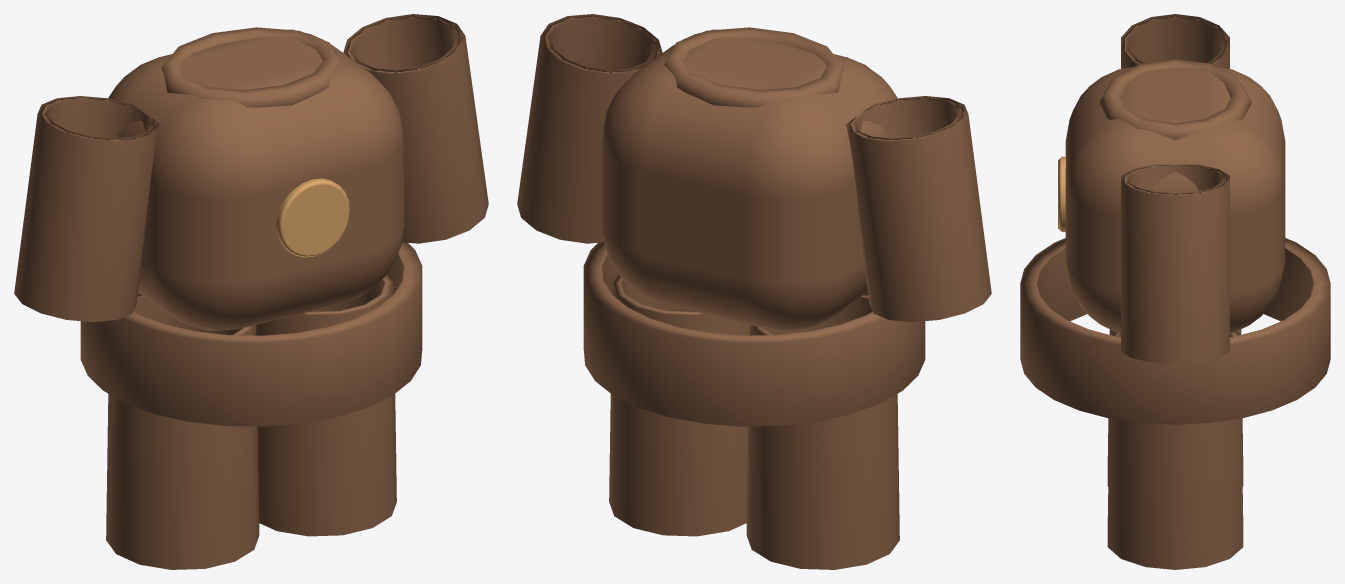
File: bear_costume.glb
3 views of the same model, side by side, from view 1: azimuth 30°, elevation 25°; view 2: azimuth 150°, elevation 25°; view 3: azimuth 270°, elevation 25° (orthographic). The views are drawn at different scales.
Visible parts, largest first — view 1: bear_costume_Body, bear_costume_ArmL, bear_costume_LegL, bear_costume_ArmR, bear_costume_LegR; view 2: bear_costume_Body, bear_costume_ArmL, bear_costume_LegL, bear_costume_ArmR, bear_costume_LegR; view 3: bear_costume_Body, bear_costume_ArmR, bear_costume_LegR, bear_costume_ArmL.
Part boxes in pixels (box(x1,y1,x2,y2)): bear_costume_Body: box(80, 27, 422, 426); bear_costume_ArmL: box(14, 96, 159, 322); bear_costume_LegL: box(106, 293, 259, 569); bear_costume_ArmR: box(343, 14, 488, 243); bear_costume_LegR: box(256, 274, 396, 536); bear_costume_Body: box(583, 27, 925, 426); bear_costume_ArmL: box(846, 96, 991, 322); bear_costume_LegL: box(746, 293, 899, 569); bear_costume_ArmR: box(517, 14, 662, 243); bear_costume_LegR: box(609, 274, 749, 536); bear_costume_Body: box(1020, 59, 1330, 424); bear_costume_ArmR: box(1121, 164, 1229, 364); bear_costume_LegR: box(1107, 331, 1243, 569); bear_costume_ArmL: box(1121, 14, 1229, 68).
Size of the model in its own units: 0.6334 by 0.6069 by 0.41.
